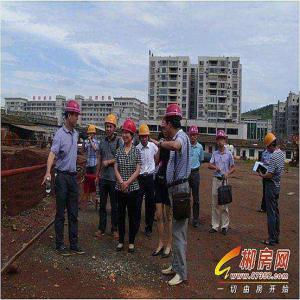red: (165, 105, 183, 137), (65, 102, 81, 128), (122, 120, 136, 144), (216, 131, 227, 149), (189, 126, 199, 144)
yellow: (105, 114, 118, 137), (265, 134, 278, 155), (139, 125, 151, 146), (88, 125, 96, 140)
